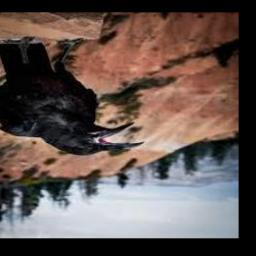Crow: (0, 44, 143, 156)
